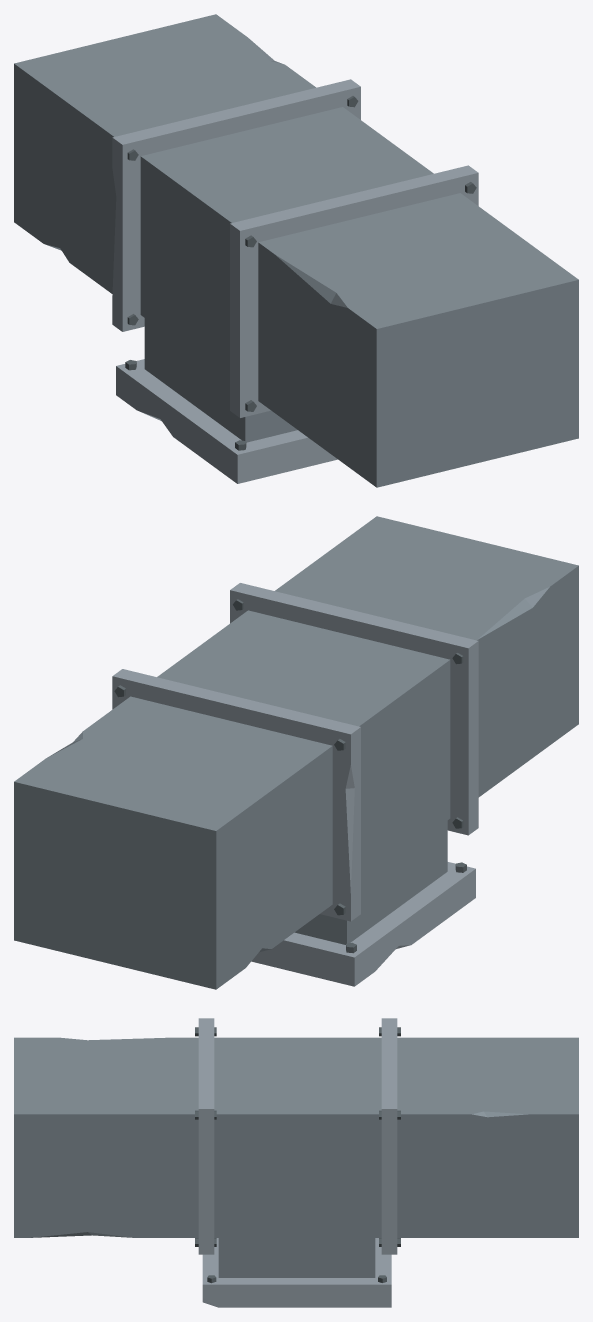
File: SM_Prop_AirDuct_02.obj
3 views of the same model, one above another, from view 1: azimuth 30°, elevation 25°; view 2: azimuth 150°, elevation 25°; view 3: azimuth 270°, elevation 25° (orthographic). The views are drawn at different scales.
Parts seen in each view (by area): view 1: SM_Prop_AirDuct_02_0; view 2: SM_Prop_AirDuct_02_0; view 3: SM_Prop_AirDuct_02_0.
Part boxes in pixels (box(x1,y1,x2,y2)): SM_Prop_AirDuct_02_0: box(14, 14, 578, 487); SM_Prop_AirDuct_02_0: box(14, 516, 578, 989); SM_Prop_AirDuct_02_0: box(14, 1018, 578, 1307).
Bounding box in the file's own units: 0.9488 × 0.9998 × 2.5.
Materials: 1 (1 with a texture image).
